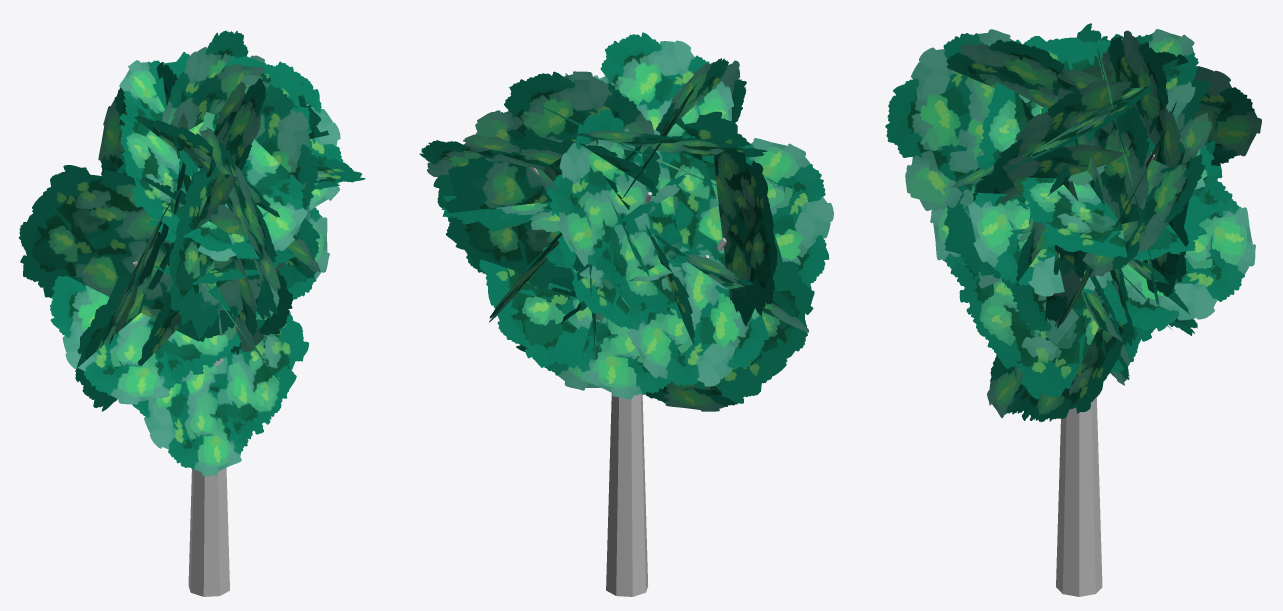
File: tree2.fbx
3 views of the same model, side by side, from view 1: azimuth 30°, elevation 25°; view 2: azimuth 150°, elevation 25°; view 3: azimuth 270°, elevation 25° (orthographic). The views are drawn at different scales.
Visible parts, largest first — view 1: leafs.019, leafs.018, leafs.023, leafs.006, leafs.004, leafs.029, tree, leafs.005, tree|leafs|Dupli|6, leafs.020, leafs.015, leafs.017 (+18 smaller); view 2: tree|leafs|Dupli|14, tree|leafs|Dupli|24, tree|leafs|Dupli|21, tree, tree|leafs|Dupli|18, tree|leafs|Dupli|20, leafs.022, tree|leafs|Dupli|8, tree|leafs|Dupli|6, tree|leafs|Dupli|19, tree|leafs|Dupli|15, leafs.012 (+14 smaller); view 3: tree|leafs|Dupli|27, tree|leafs|Dupli|9, tree|leafs|Dupli|1, leafs.030, tree, leafs.028, leafs.016, tree|leafs|Dupli|13, leafs.015, leafs.007, leafs.018, leafs.008 (+16 smaller).
Boxes of the visible parts, <box> form: leafs.019: <box>19,165,260,341</box>; leafs.018: <box>132,309,308,470</box>; leafs.023: <box>50,276,277,404</box>; leafs.006: <box>119,60,237,253</box>; leafs.004: <box>148,56,312,261</box>; leafs.029: <box>169,165,264,340</box>; tree: <box>133,261,229,596</box>; leafs.005: <box>116,75,318,209</box>; tree|leafs|Dupli|6: <box>205,78,266,197</box>; leafs.020: <box>75,246,154,411</box>; leafs.015: <box>162,30,265,124</box>; leafs.017: <box>170,63,329,139</box>; tree|leafs|Dupli|14: <box>444,71,654,290</box>; tree|leafs|Dupli|24: <box>556,109,685,318</box>; tree|leafs|Dupli|21: <box>630,135,768,383</box>; tree: <box>530,167,726,596</box>; tree|leafs|Dupli|18: <box>714,147,777,326</box>; tree|leafs|Dupli|20: <box>608,138,833,319</box>; leafs.022: <box>619,276,756,386</box>; tree|leafs|Dupli|8: <box>479,259,591,368</box>; tree|leafs|Dupli|6: <box>553,32,710,216</box>; tree|leafs|Dupli|19: <box>693,231,814,403</box>; tree|leafs|Dupli|15: <box>419,134,655,188</box>; leafs.012: <box>578,316,671,399</box>; tree|leafs|Dupli|27: <box>885,46,1015,291</box>; tree|leafs|Dupli|9: <box>1028,147,1255,331</box>; tree|leafs|Dupli|1: <box>968,36,1110,296</box>; leafs.030: <box>930,206,1156,399</box>; tree: <box>980,152,1154,596</box>; leafs.028: <box>895,29,1014,215</box>; leafs.016: <box>1082,66,1212,276</box>; tree|leafs|Dupli|13: <box>1021,177,1192,260</box>; leafs.015: <box>1102,30,1188,296</box>; leafs.007: <box>949,39,1140,112</box>; leafs.018: <box>987,325,1129,421</box>; leafs.008: <box>1053,105,1149,277</box>.
Size of the model in its own units: 1175 by 1741 by 1070.
